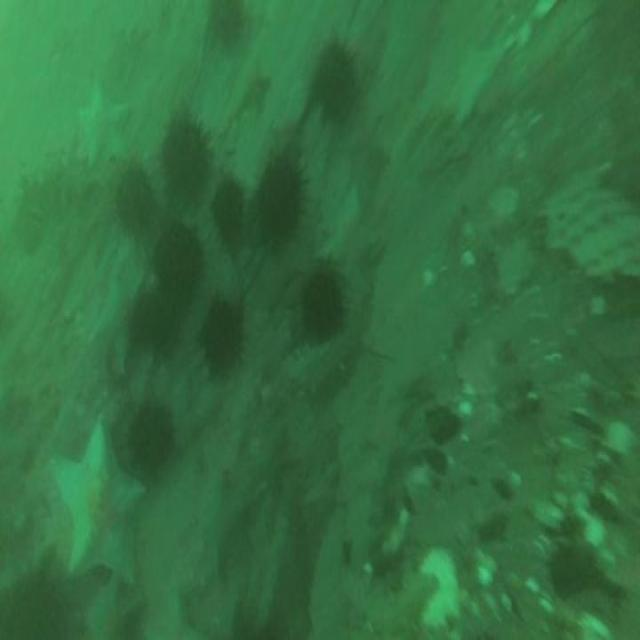echinus: (163, 117, 213, 204), (128, 291, 181, 358), (258, 162, 301, 244), (158, 220, 204, 292), (198, 299, 242, 371), (318, 46, 356, 120), (129, 406, 172, 471), (116, 169, 156, 236), (300, 274, 344, 334), (216, 175, 244, 237), (210, 0, 243, 44)
starfish: (52, 416, 143, 586), (77, 87, 127, 166)
